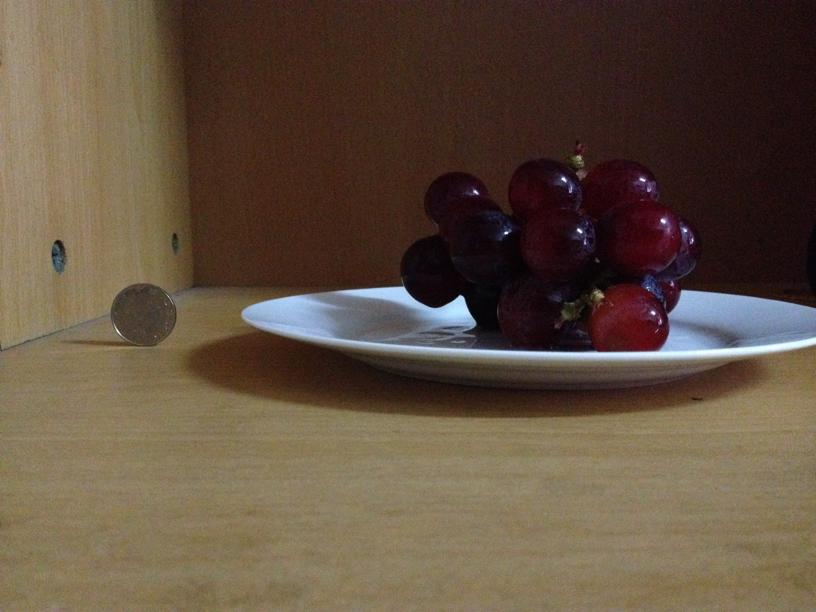coin: (108, 282, 176, 347)
grape: (403, 161, 698, 349)
